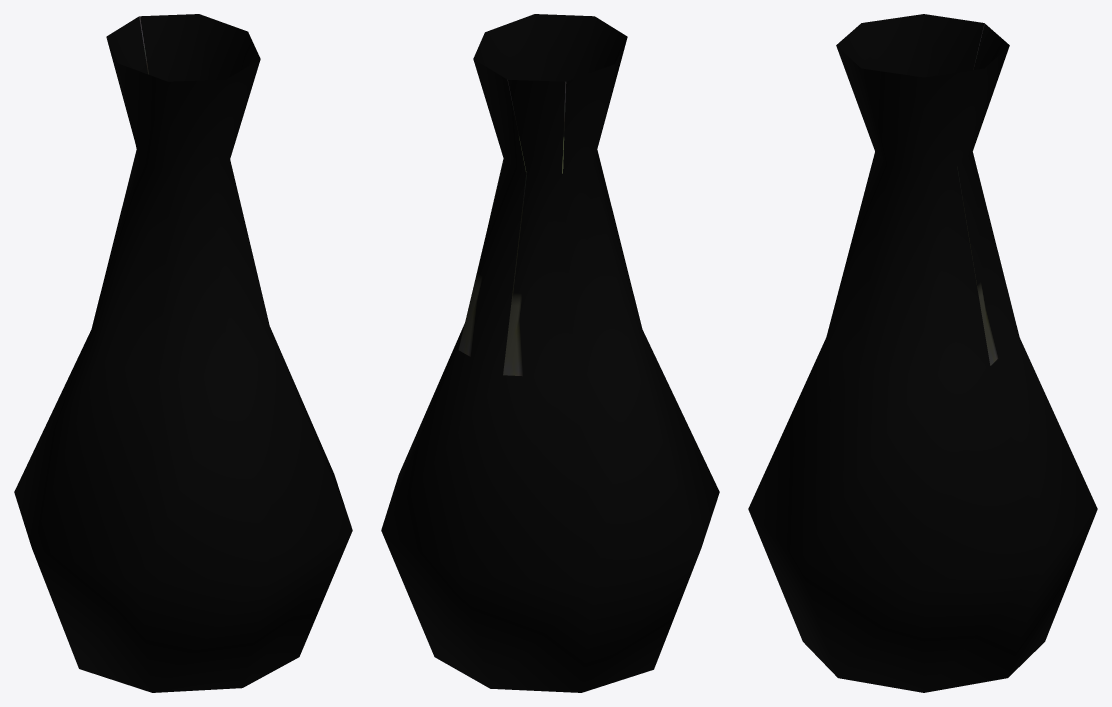
3 renders of one model, left to right at view 1: azimuth 30°, elevation 25°; view 2: azimuth 150°, elevation 25°; view 3: azimuth 270°, elevation 25°, orthographic.
Parts seen in each view (by area): view 1: T1L6M006_7; view 2: T1L6M006_7; view 3: T1L6M006_7.
Boxes of the visible parts, <box> form: T1L6M006_7: <box>14,14,352,692</box>; T1L6M006_7: <box>381,14,719,692</box>; T1L6M006_7: <box>748,14,1097,692</box>.
Bounding box in the file's own units: 0.1748 × 0.3291 × 0.1748.
